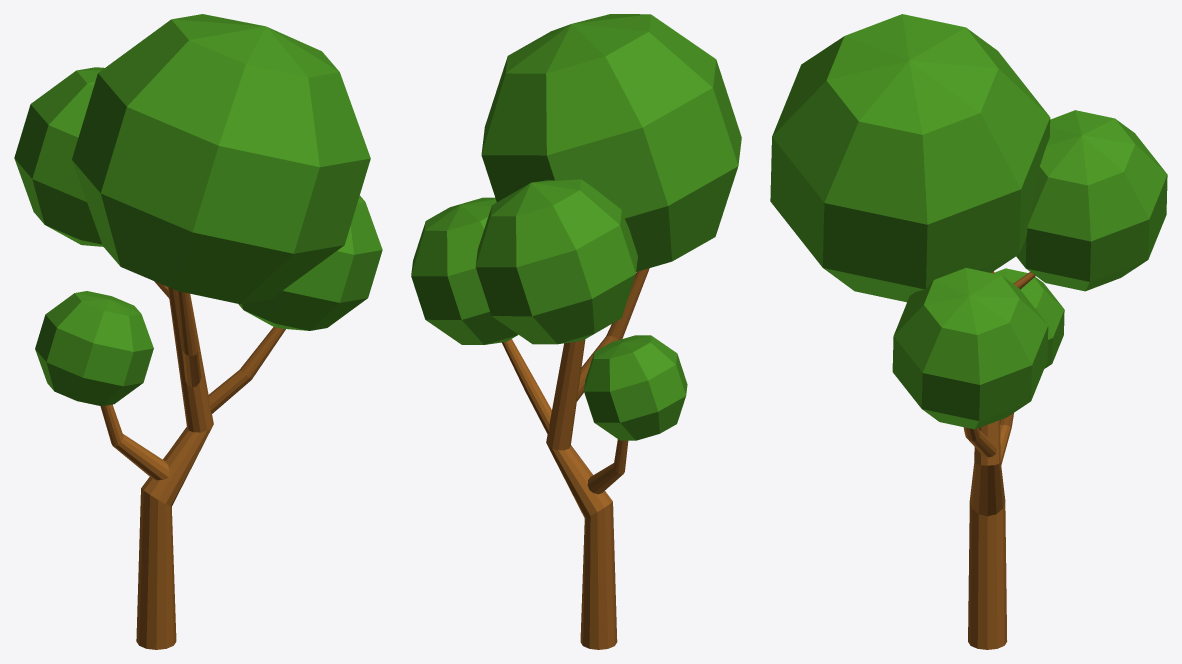
Rendered from OakStage3.fbx.
3 views of the same model, side by side, from view 1: azimuth 30°, elevation 25°; view 2: azimuth 150°, elevation 25°; view 3: azimuth 270°, elevation 25° (orthographic). The views are drawn at different scales.
Visible parts, largest first — view 1: OakStage3; view 2: OakStage3; view 3: OakStage3.
Boxes of the visible parts, left/top/right/bottom form: OakStage3: left=14, top=14, right=382, bottom=649; OakStage3: left=411, top=14, right=741, bottom=649; OakStage3: left=770, top=14, right=1167, bottom=649.
Size of the model in its own units: 194 by 380 by 220.
